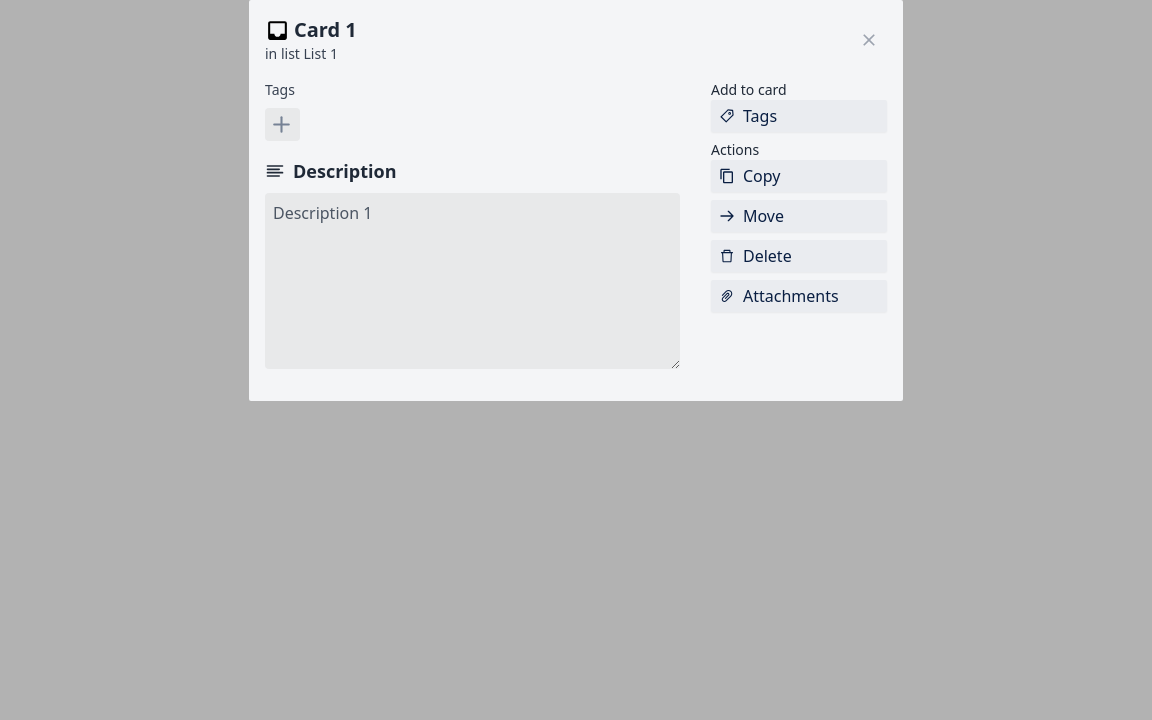
it: CardModal › should not update card title on blur
Step 1. Click the heading "Card 1" → [325, 30], box [294,16,357,44]
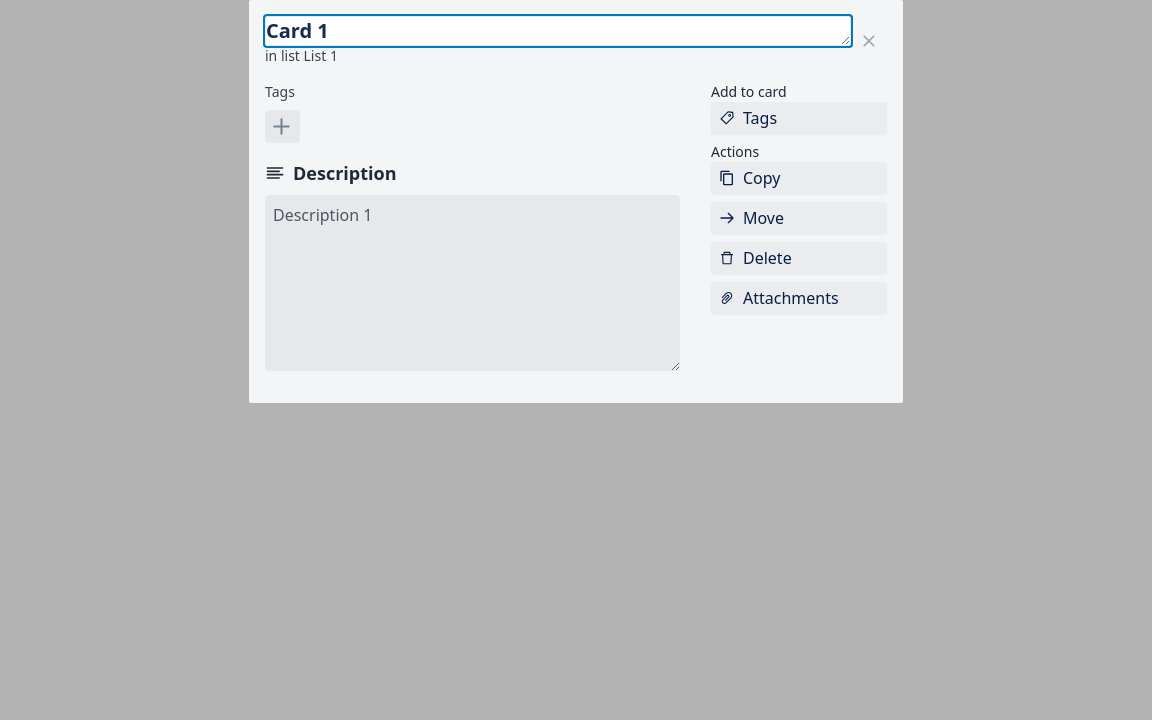
Result: the 1st text box "Card 1" is shown
Step 2. Replace the text in the 1st text box "Card 1" with "Updated Title" → [558, 31], box [265,16,851,46]
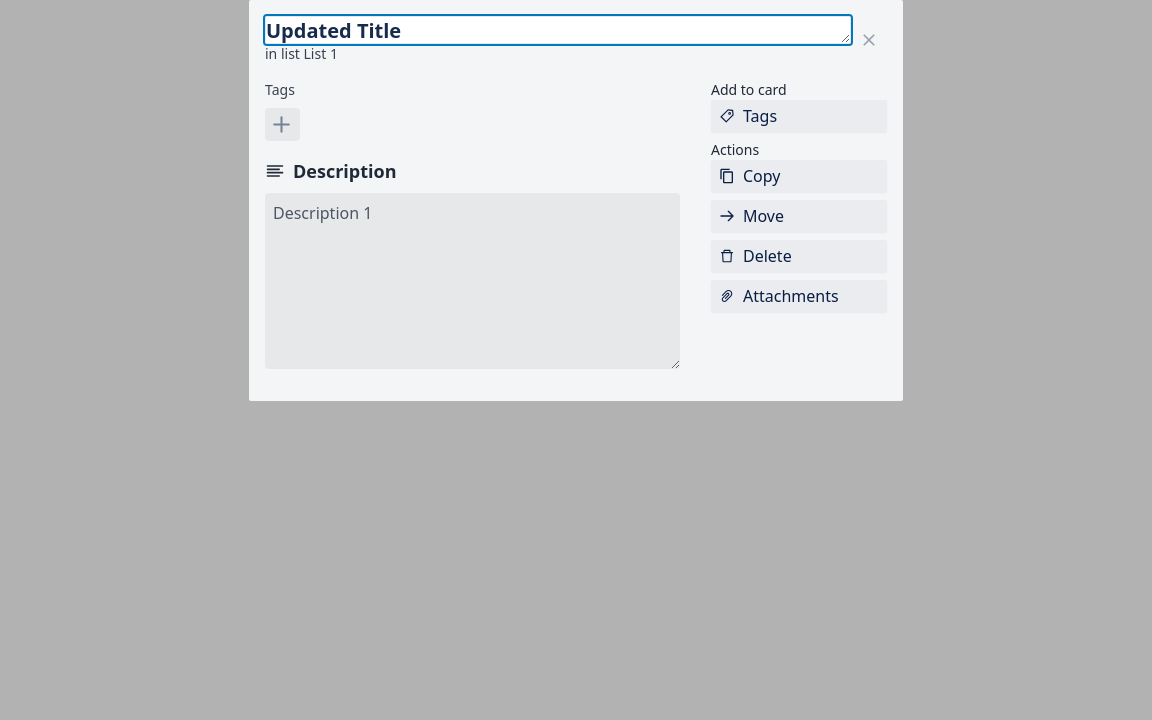
Step 3. Leave the 1st text box "Card 1", box [265,16,851,44]
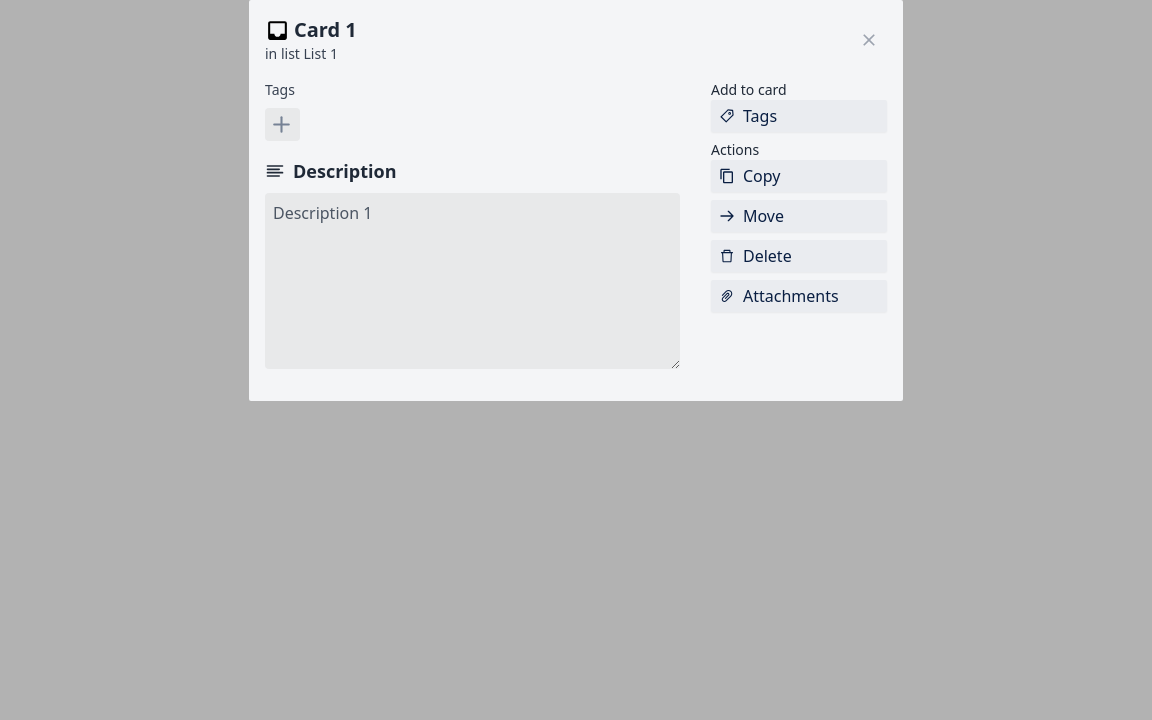
Result: the heading "Card 1" is shown at [294,16,357,44]
